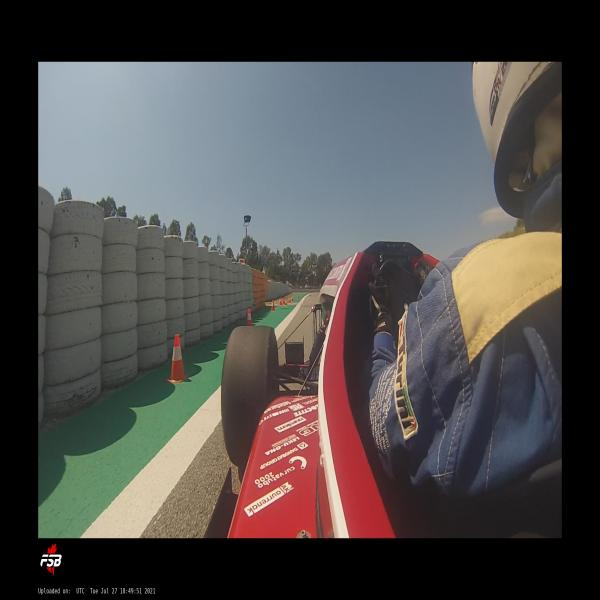orange_cone: (167, 334, 188, 383), (246, 308, 253, 326), (271, 300, 275, 312), (282, 300, 288, 306), (279, 297, 282, 305), (288, 297, 290, 303), (291, 295, 293, 301), (298, 293, 300, 299)
